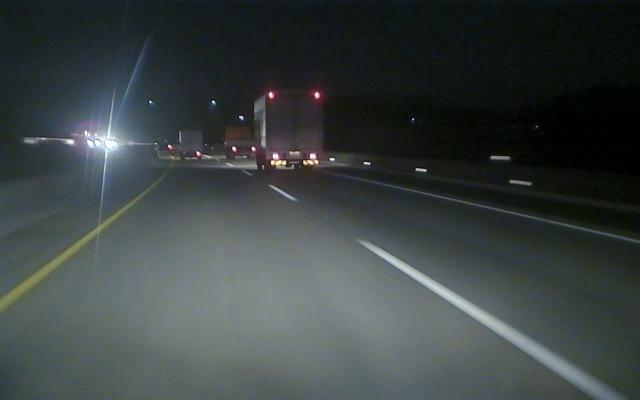lane: (274, 187, 625, 398), (402, 186, 640, 243), (1, 206, 127, 311)
